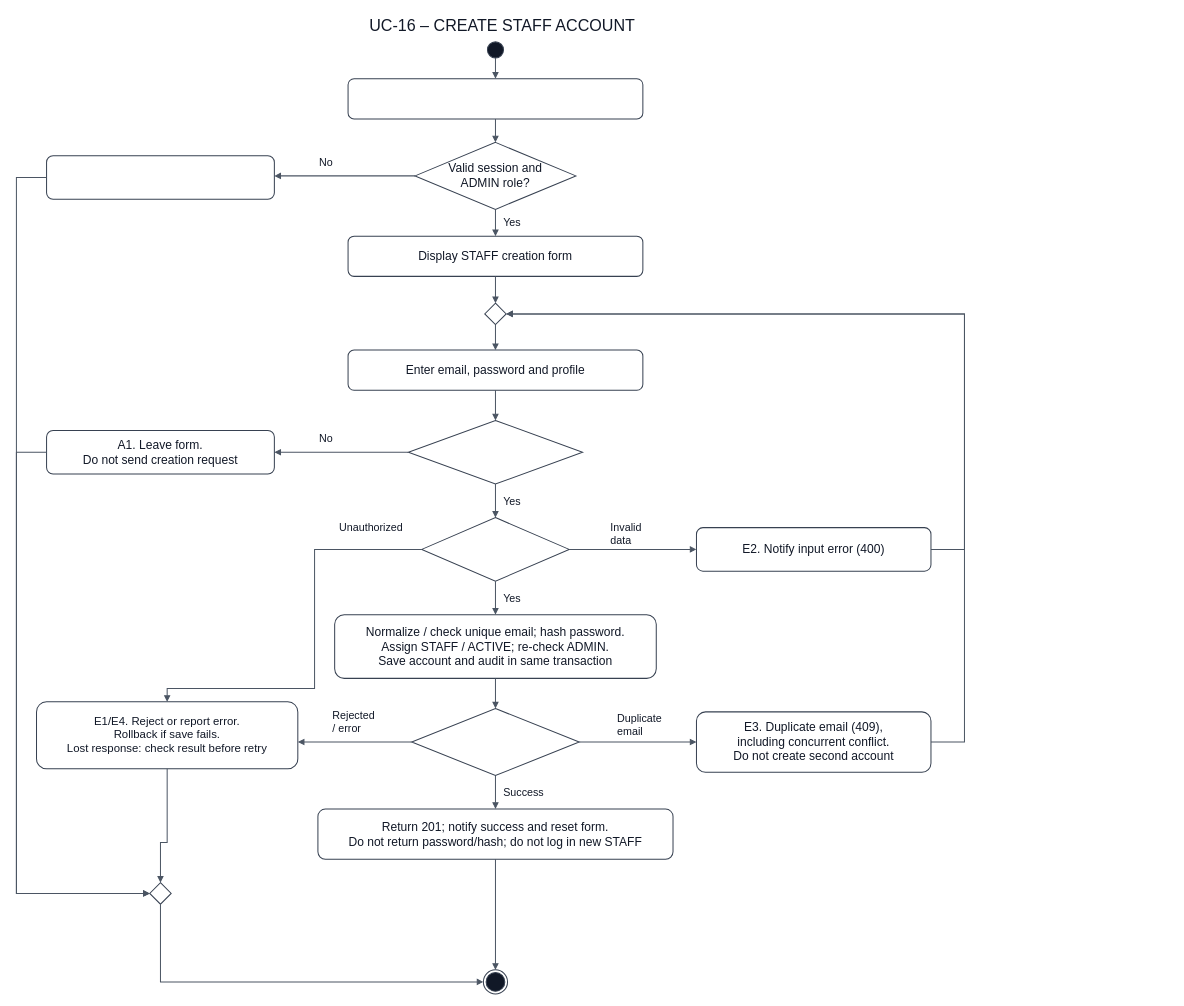
This 1184x1006 diagram has some shape labels left out. The centre of each missing label's shape, as x and y in pixels:
"ADMIN selects Create STAFF Account" belongs at (x=495, y=98).
"E1. Deny access / operation" belongs at (x=160, y=177).
"Permission and data valid?" belongs at (x=495, y=549).
"Processing result?" belongs at (x=495, y=742).
"Submit staff creation request?" belongs at (x=495, y=452).
